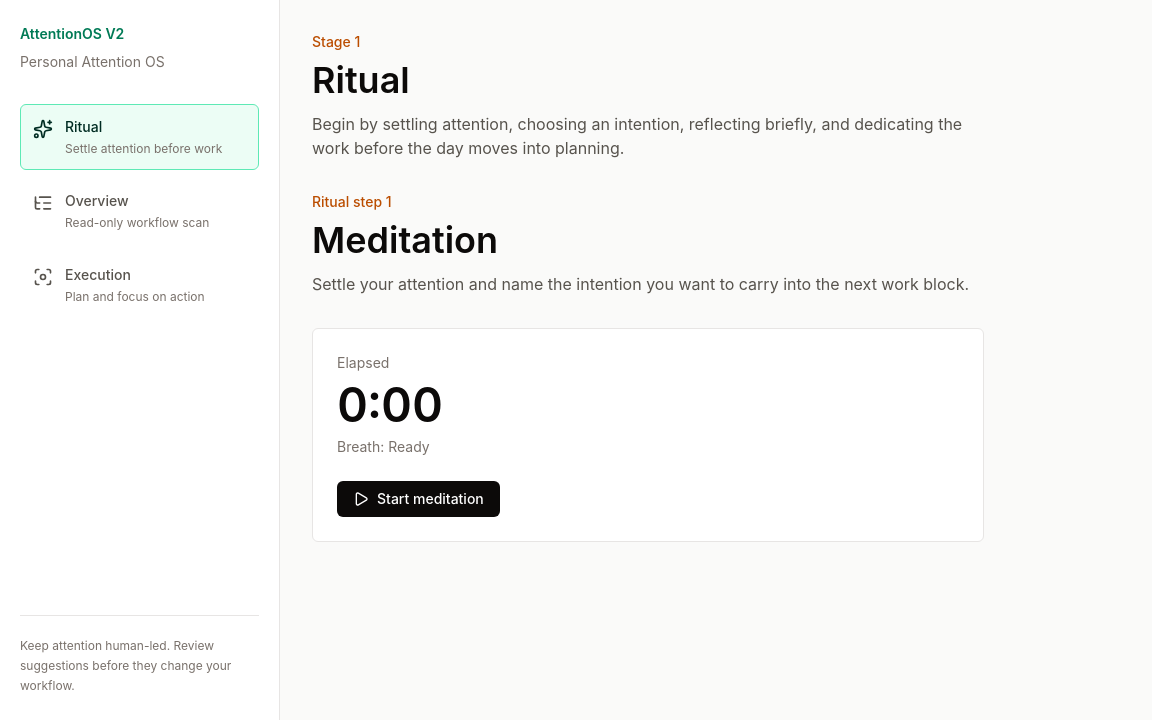
Test: RitualPage workflow › persists reflection text as a reflection entity before dedication
Click the button "Start meditation" at [418, 499], box [337,481,500,517]
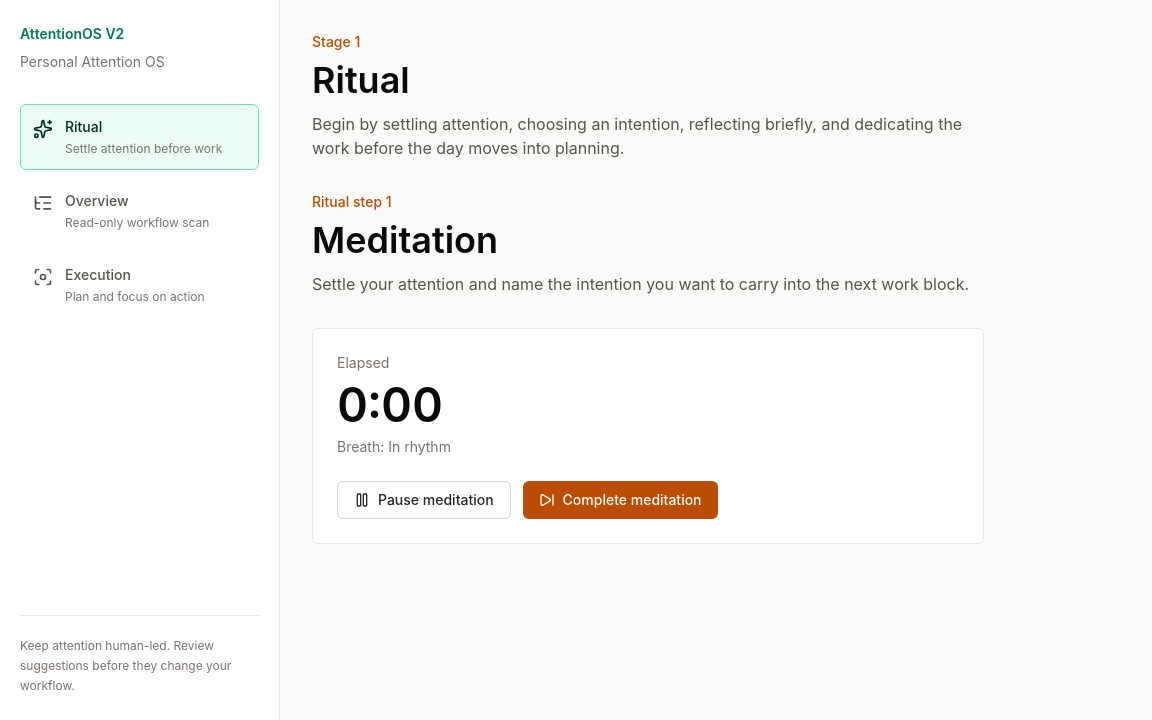
Click the button "Complete meditation" at [620, 500], box [523,481,718,519]
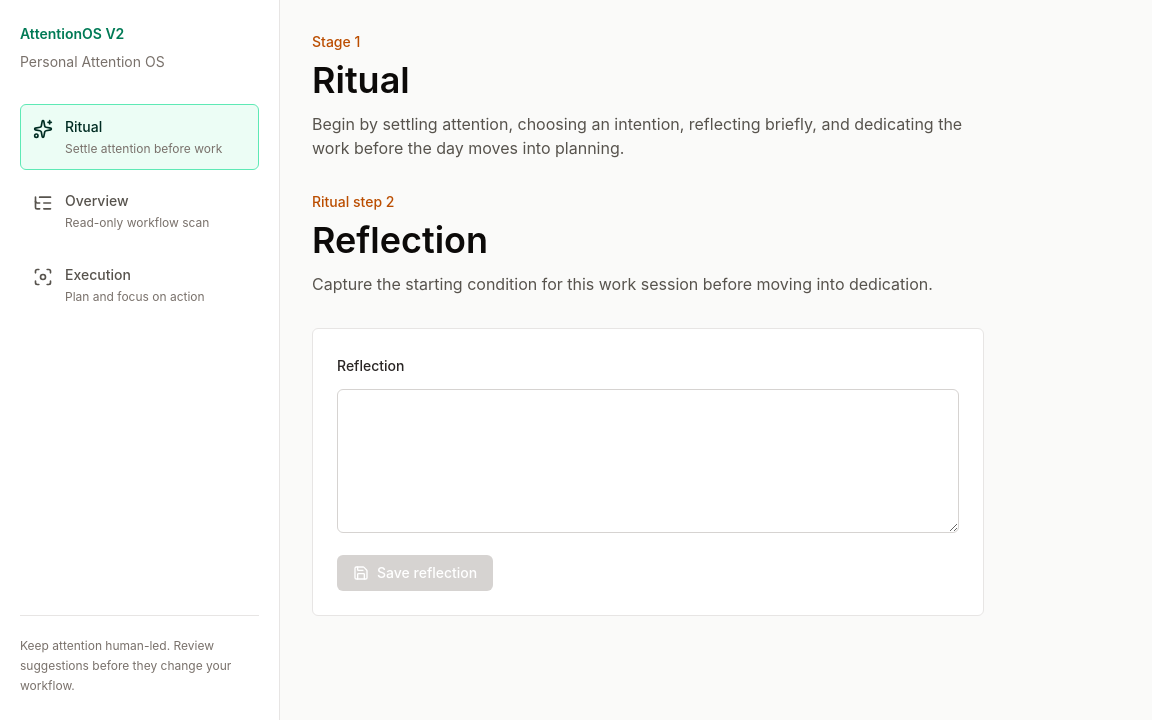
Expected: the heading "Reflection" is shown, [312,218,488,262]
Type "Focus on the one task that matters today." into the text box labelled "Reflection" at [648, 461], box [337,389,959,533]
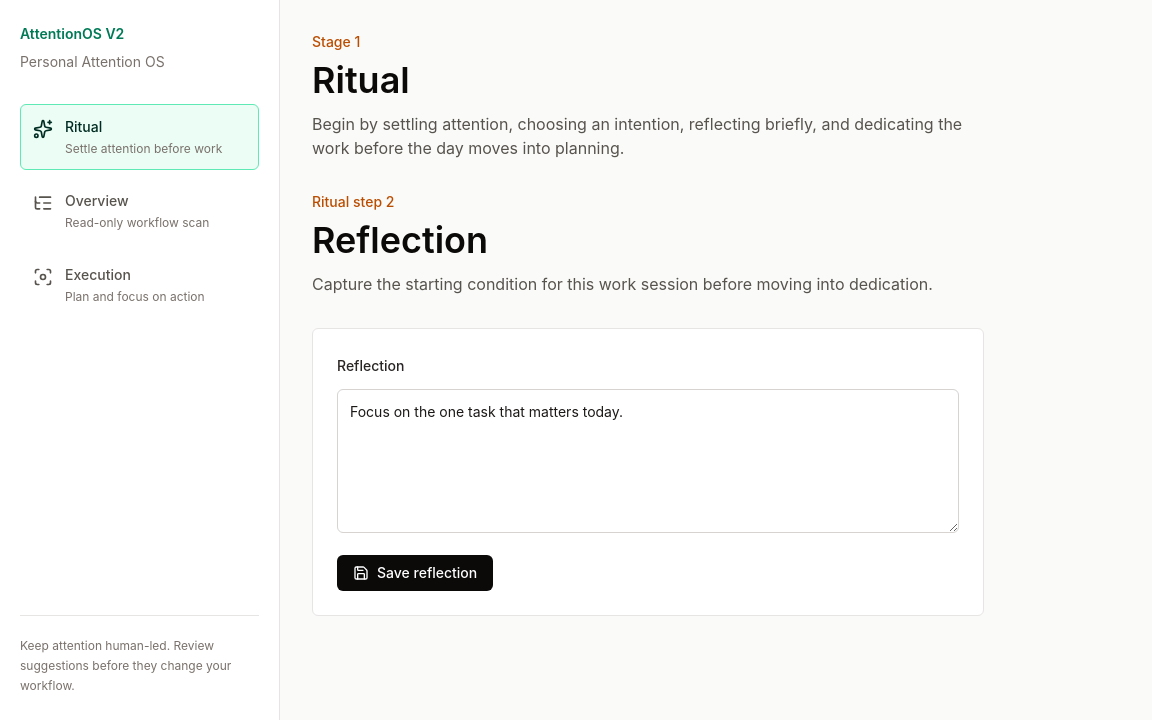
Click the button "Save reflection" at [415, 573], box [337,555,493,591]
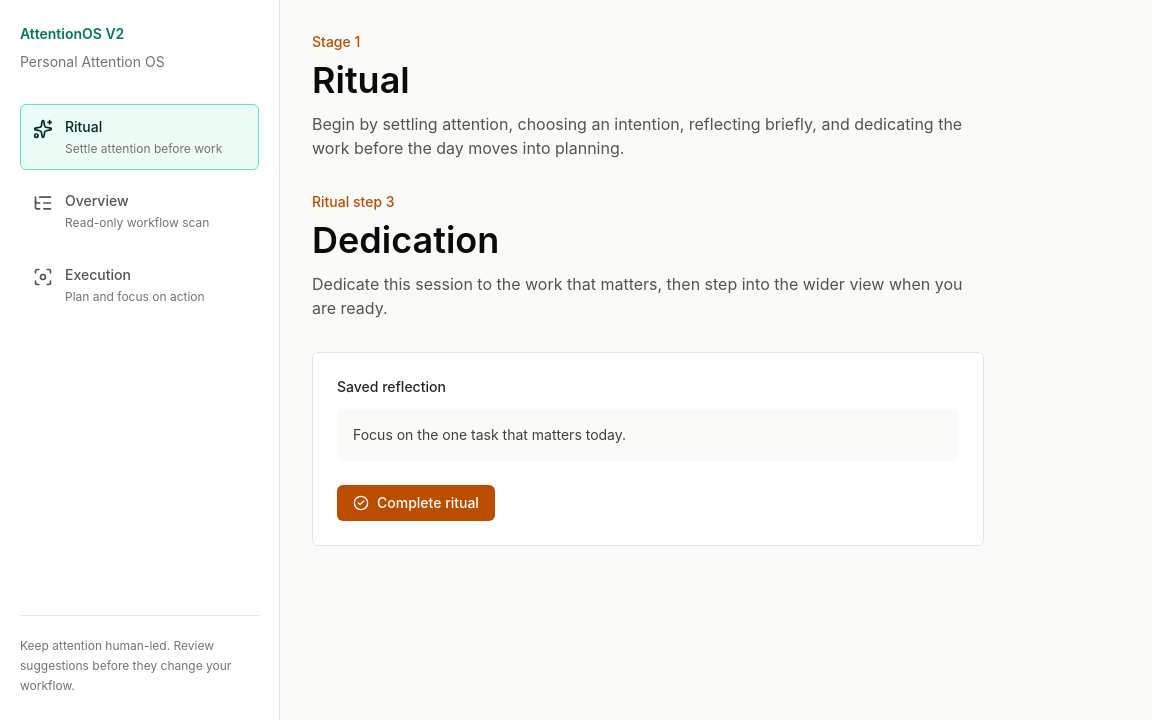
Expected: the heading "Dedication" is shown, [312,218,499,262]
